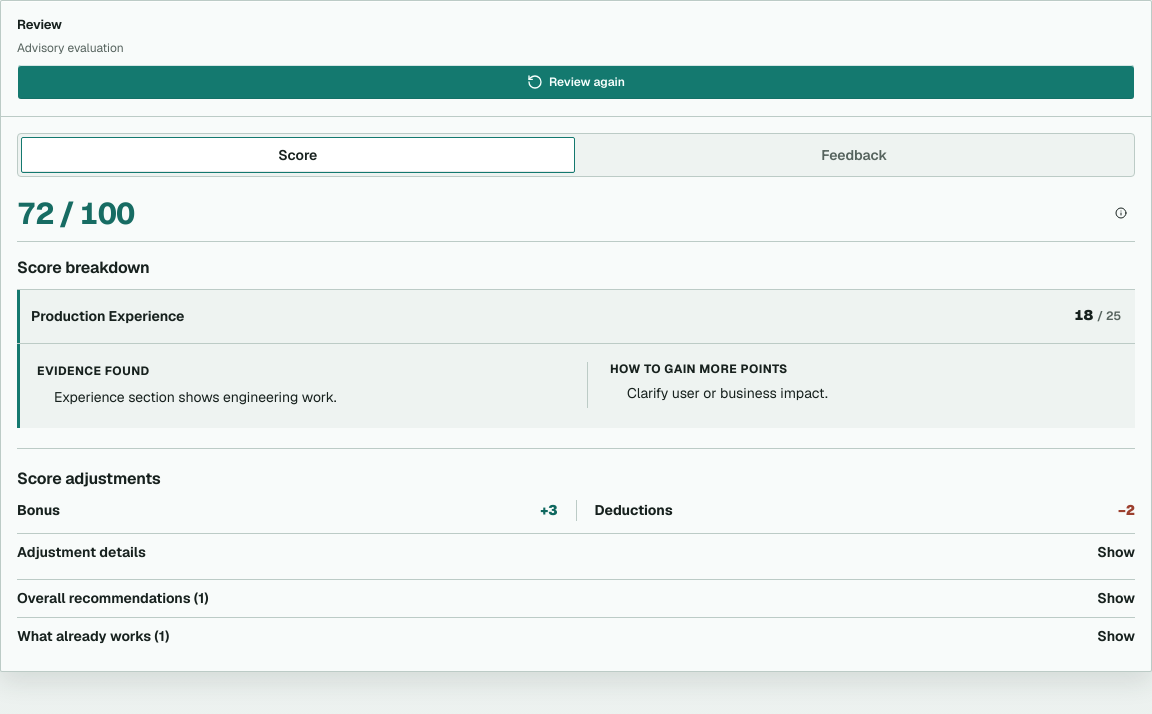
Test: ReviewPanel › renders successful review details as advisory findings
The width and height of the screenshot is (1152, 714).
Expected: the text "72 / 100" is shown, [17,199,134,229]
Expected: the element named "Review report section" is shown, [17,133,1135,177]
Click the button "Overall recommendations (1) Show".
click(113, 598)  # box [17,579,1135,617]
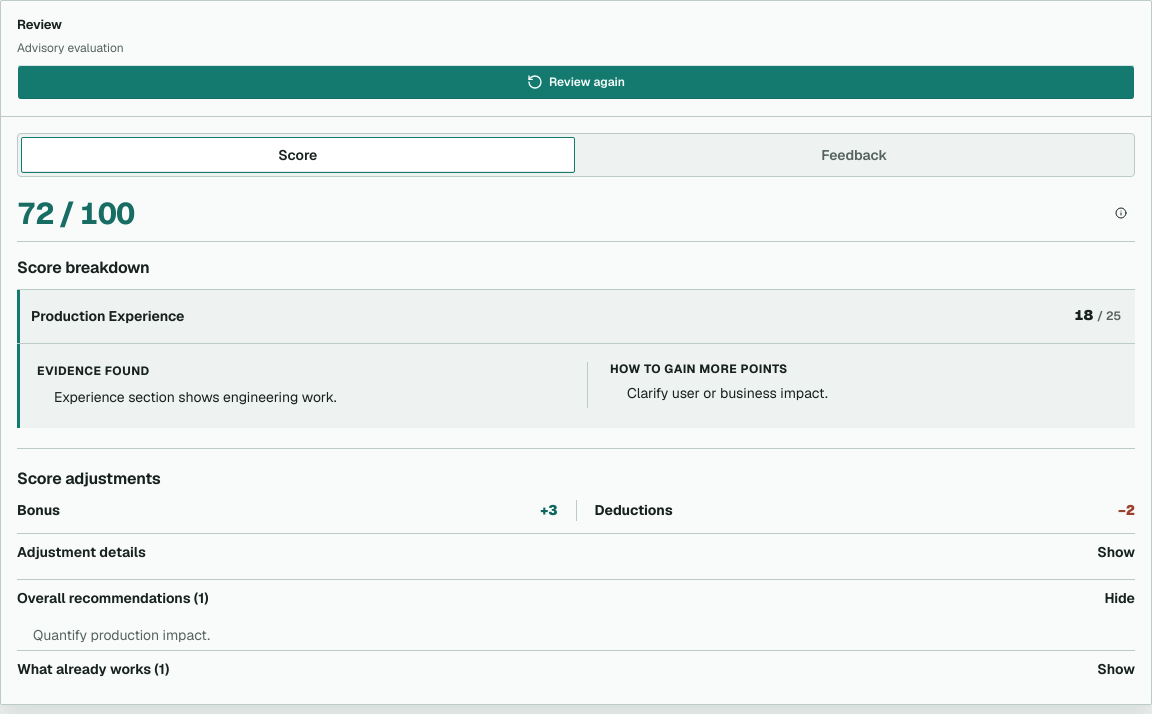
Now the list item "Quantify production impact." is shown, box [33,626,210,644]
Click the button "Adjustment details Show".
click(81, 552)  # box [17,533,1135,571]
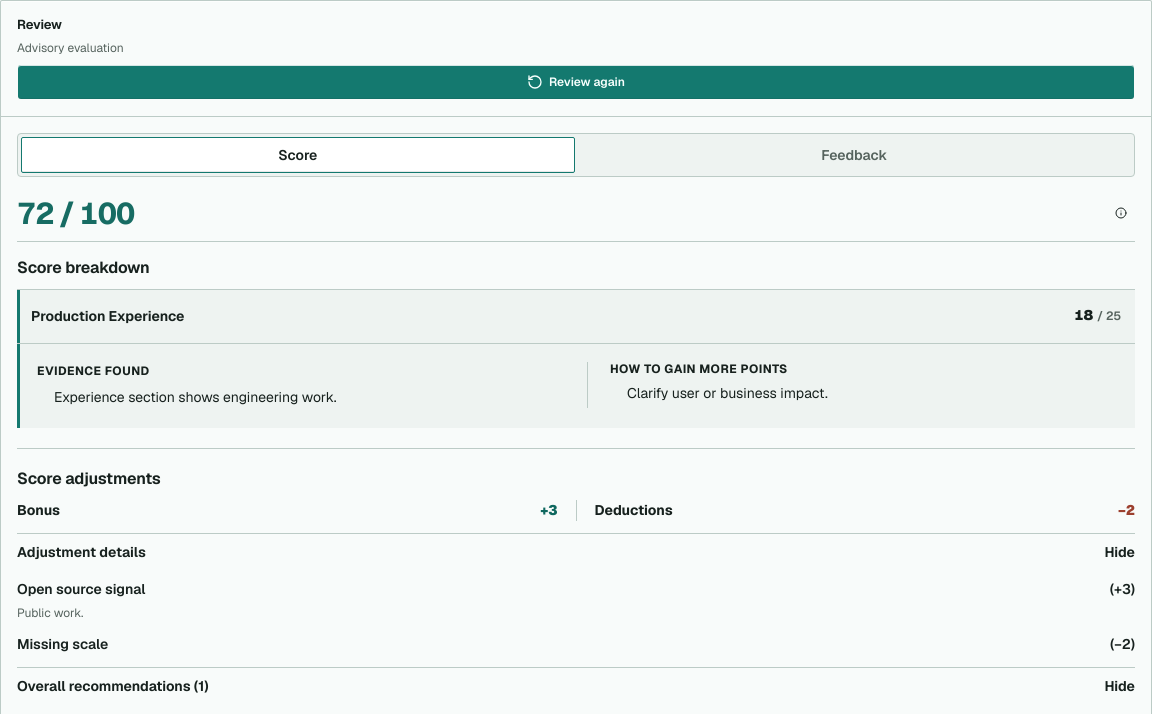
Now the text "Open source signal" is shown, box [17,579,145,600]
Now the text "Missing scale" is shown, box [17,634,108,655]
Click the button "Feedback".
click(854, 155)  # box [578,137,1131,173]
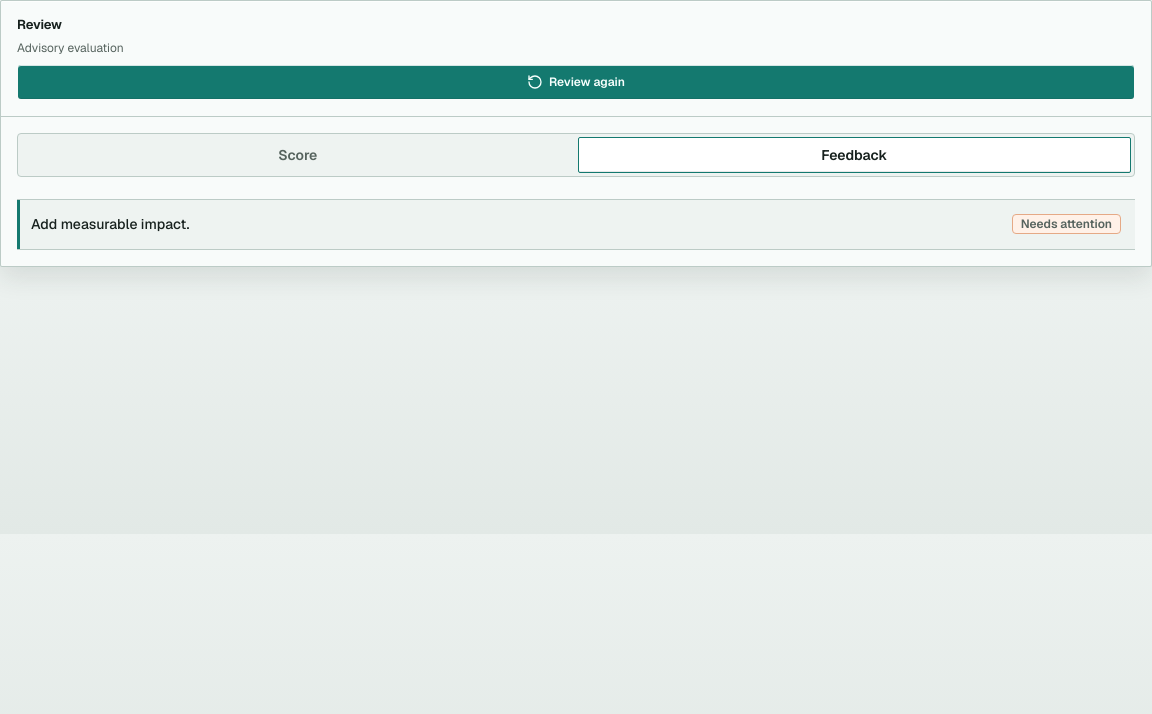
Expected: the text "Advisory evaluation" is shown, [17,40,124,56]
Now the text "Needs attention" is shown, box [1012,214,1121,234]
Now the text "Add measurable impact." is shown, box [31,215,190,233]
